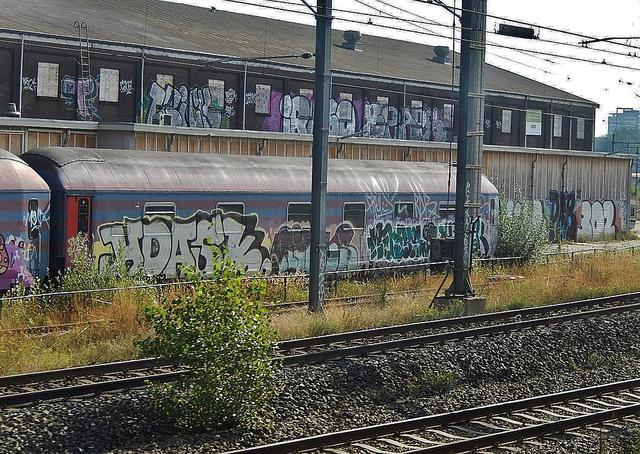Train: (0, 147, 501, 302)
